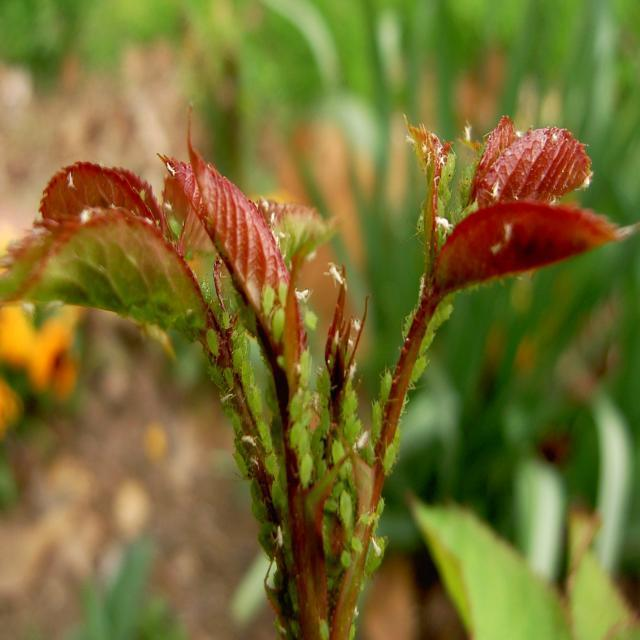aphid: (271, 308, 285, 342), (300, 453, 312, 487), (262, 285, 275, 316)
